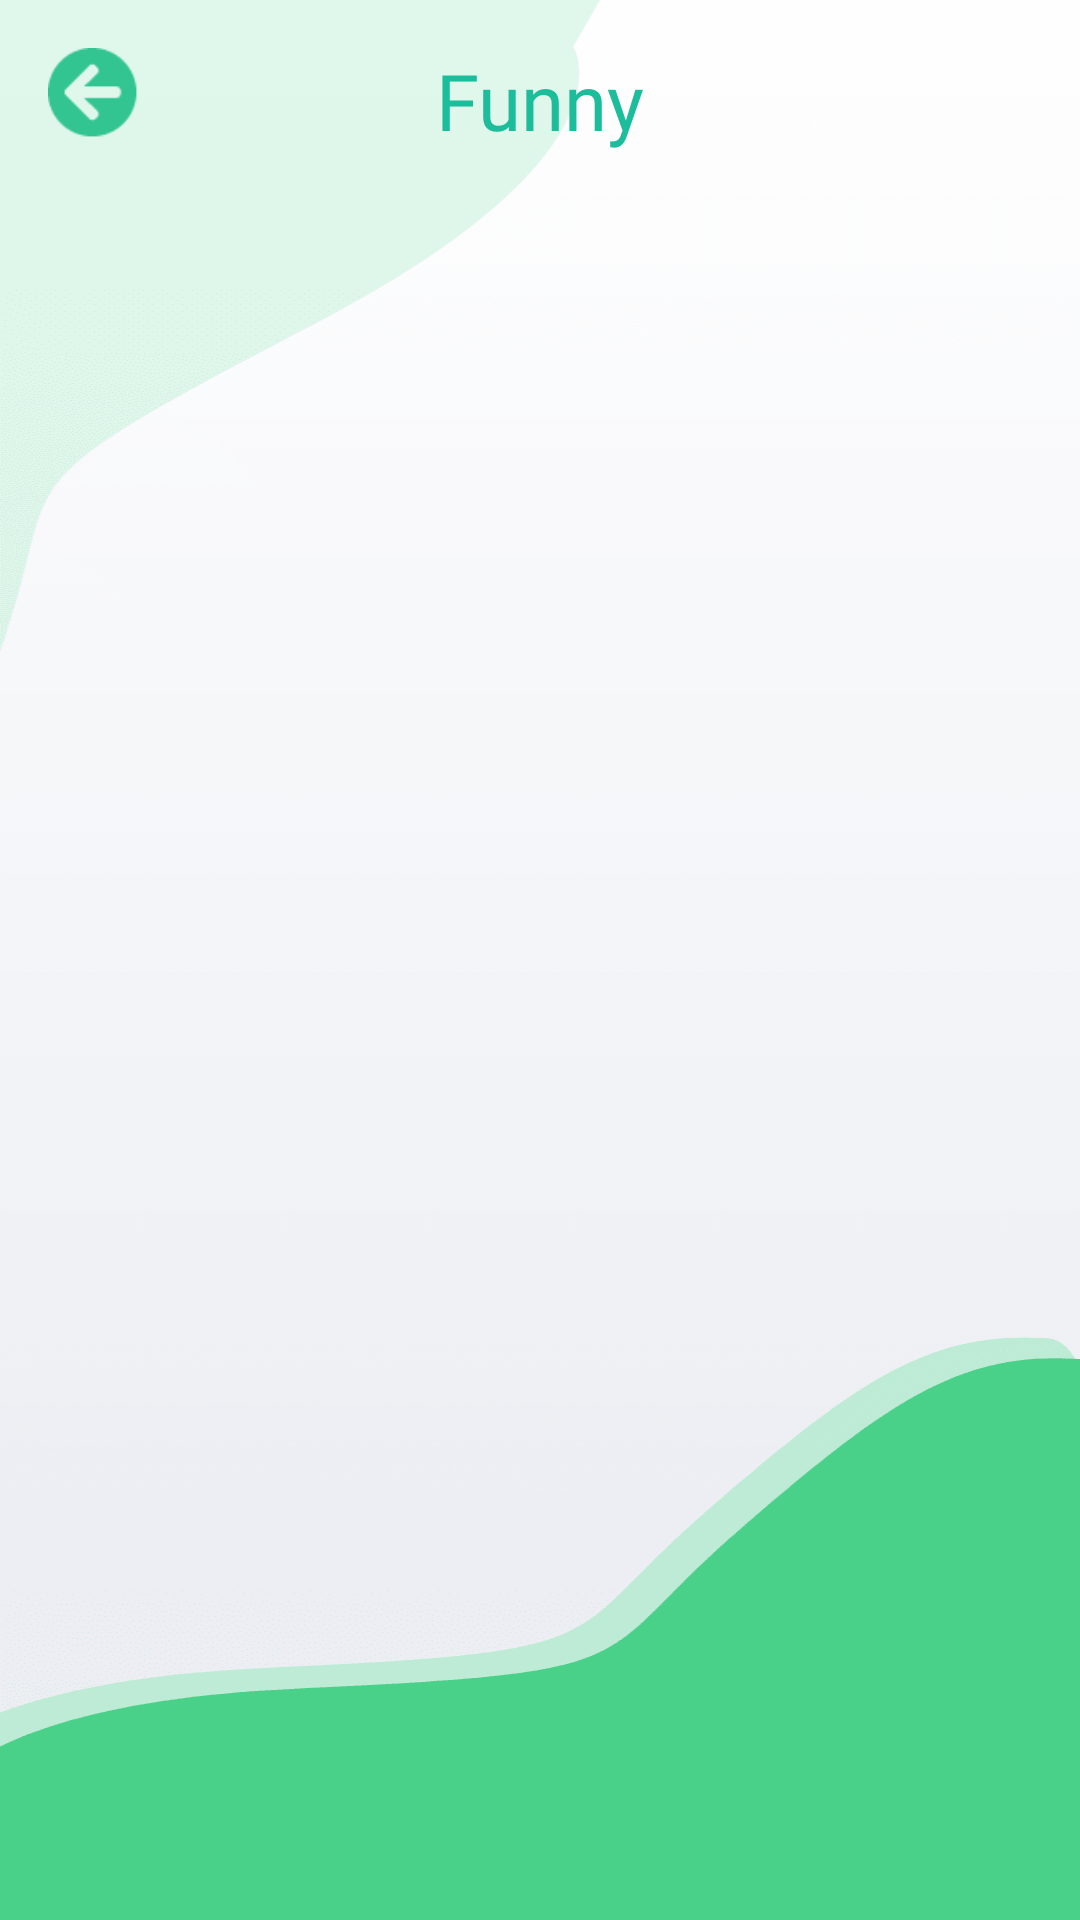

Icons on this 1080 x 1920 Android screen, each with its box as (x1, y1, x2, y2):
signupabackbutton: (48, 48, 137, 137)
